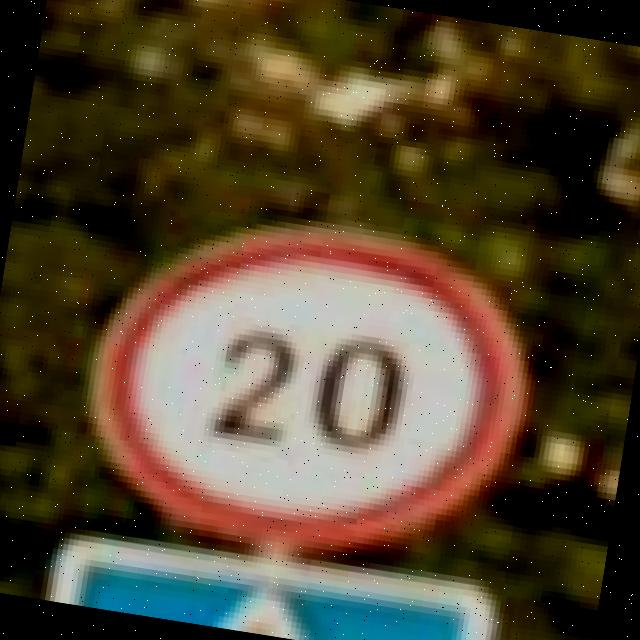Ograniczenie predkosci do 20: (63, 190, 550, 584)
